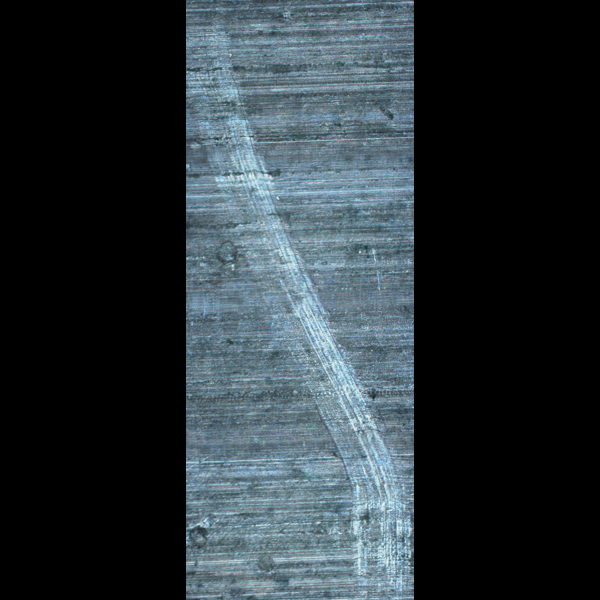d: (347, 423, 413, 599), (197, 29, 262, 183), (240, 162, 302, 317), (298, 315, 360, 442)
